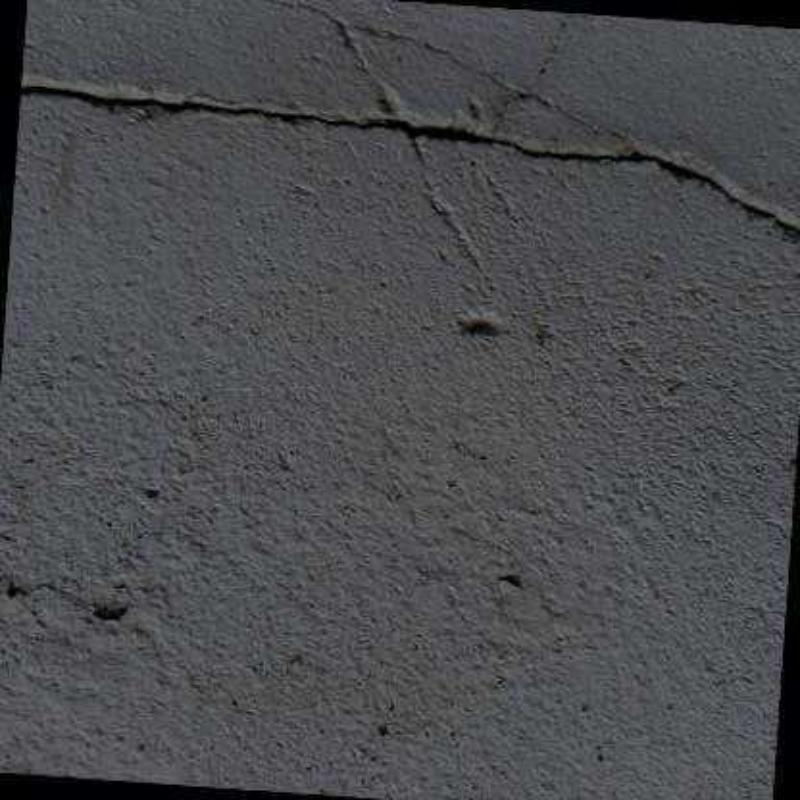pothole: (20, 72, 800, 236)
